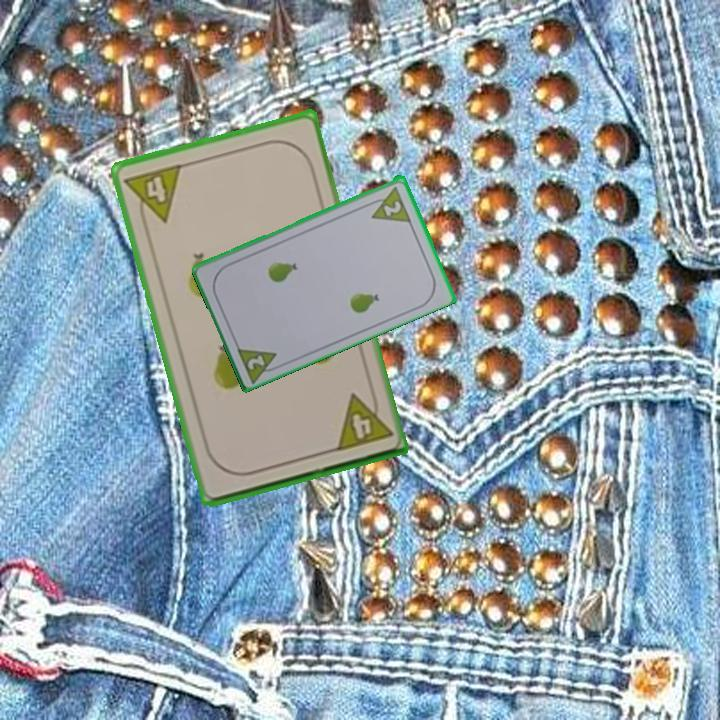2p: (380, 197, 404, 219), (244, 351, 268, 372)
4p: (121, 160, 185, 230), (331, 386, 396, 454)
